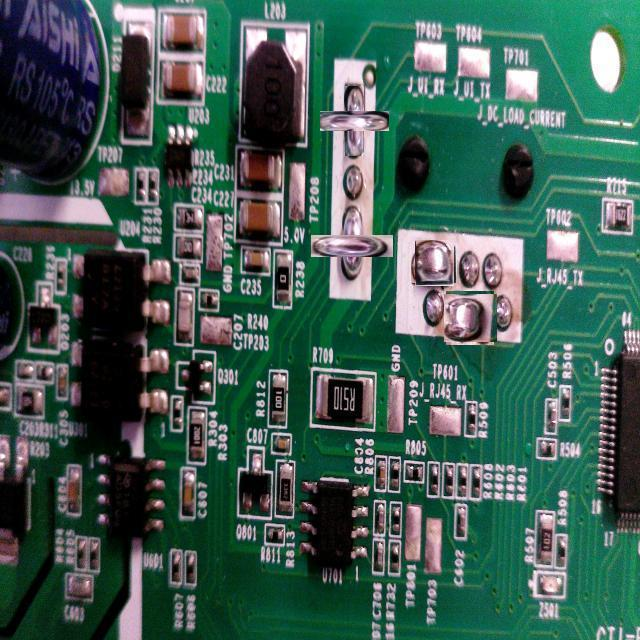Short_circuit: (326, 219, 379, 272), (445, 292, 496, 344), (331, 98, 377, 144), (412, 242, 456, 285)
